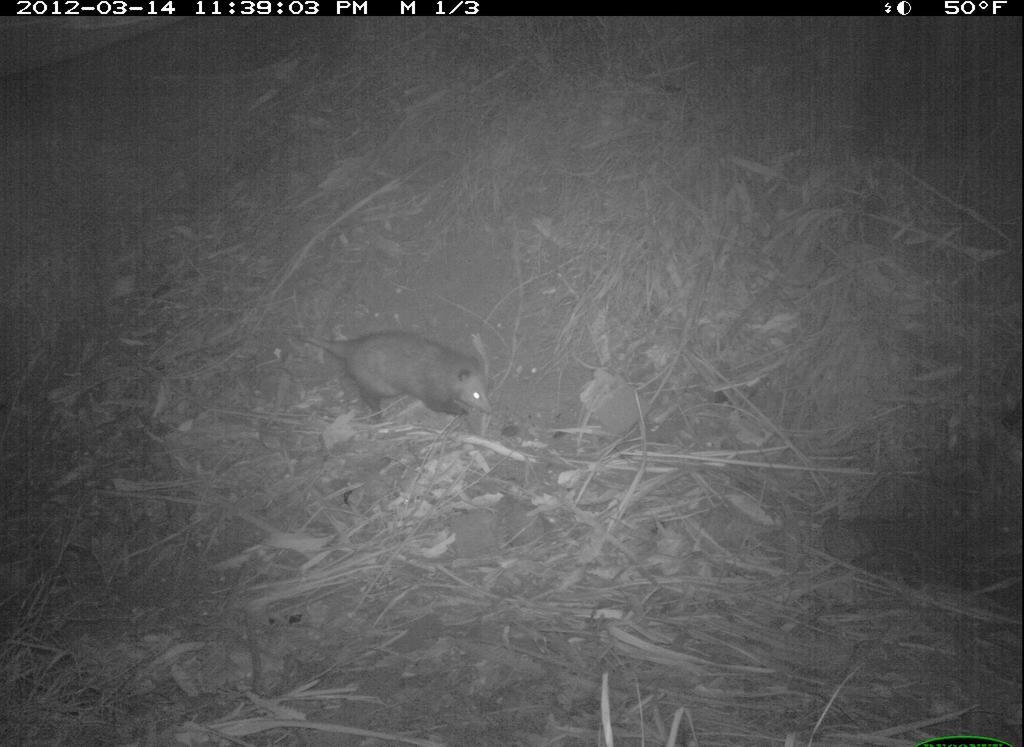opossum: (287, 300, 519, 438)
